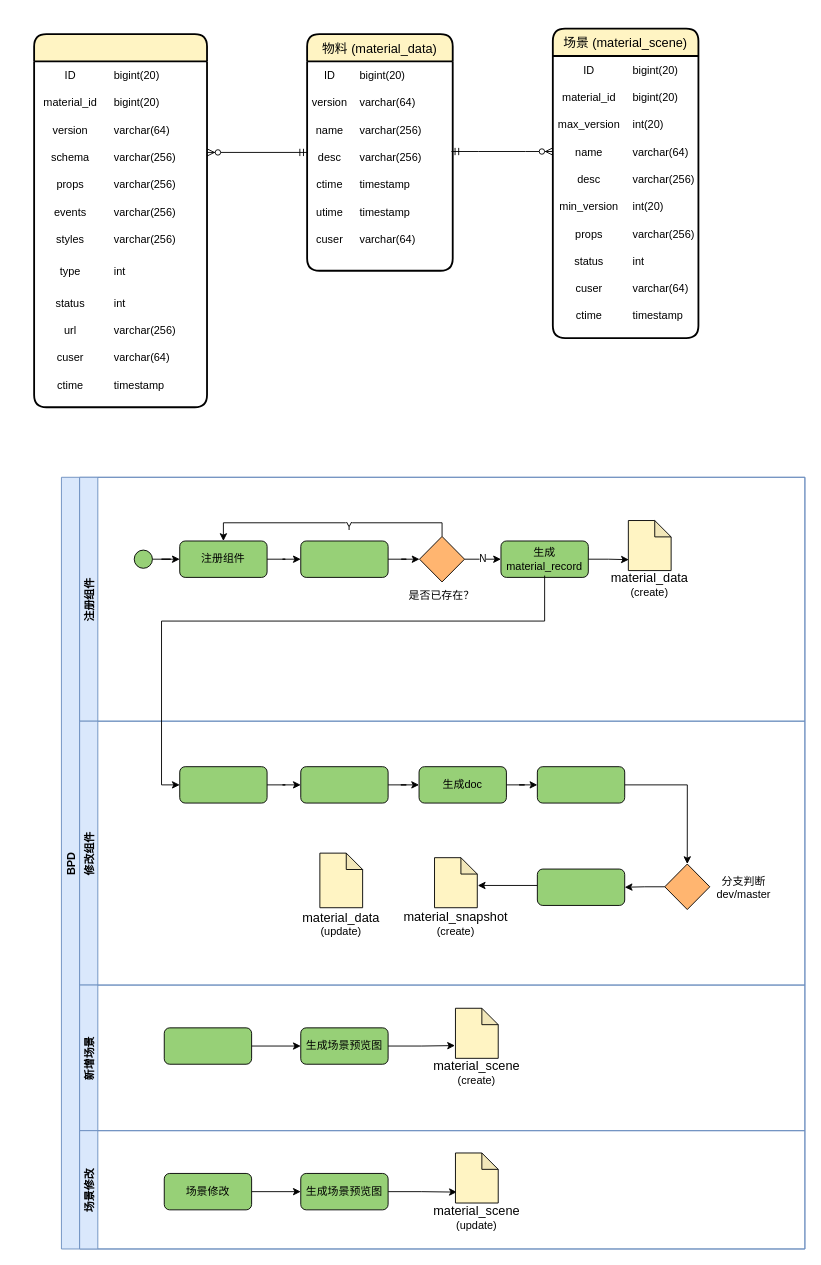
Image size: 821x1265. Some labels were removed from this diagram. The shapes that lost their labels are listed below. From the top down, each one's box as (x1, y1, x2, y2) in pixels, then its label:
(33, 33, 207, 408): 版本/快照 (material_snapshot)
(300, 540, 388, 577): 验证material_name
(179, 766, 267, 803): 本地组件开发
(300, 766, 388, 803): git commit
(536, 766, 625, 803): merge 分支
(536, 868, 625, 905): 生成CDN地址
(163, 1027, 252, 1064): 场景编辑
